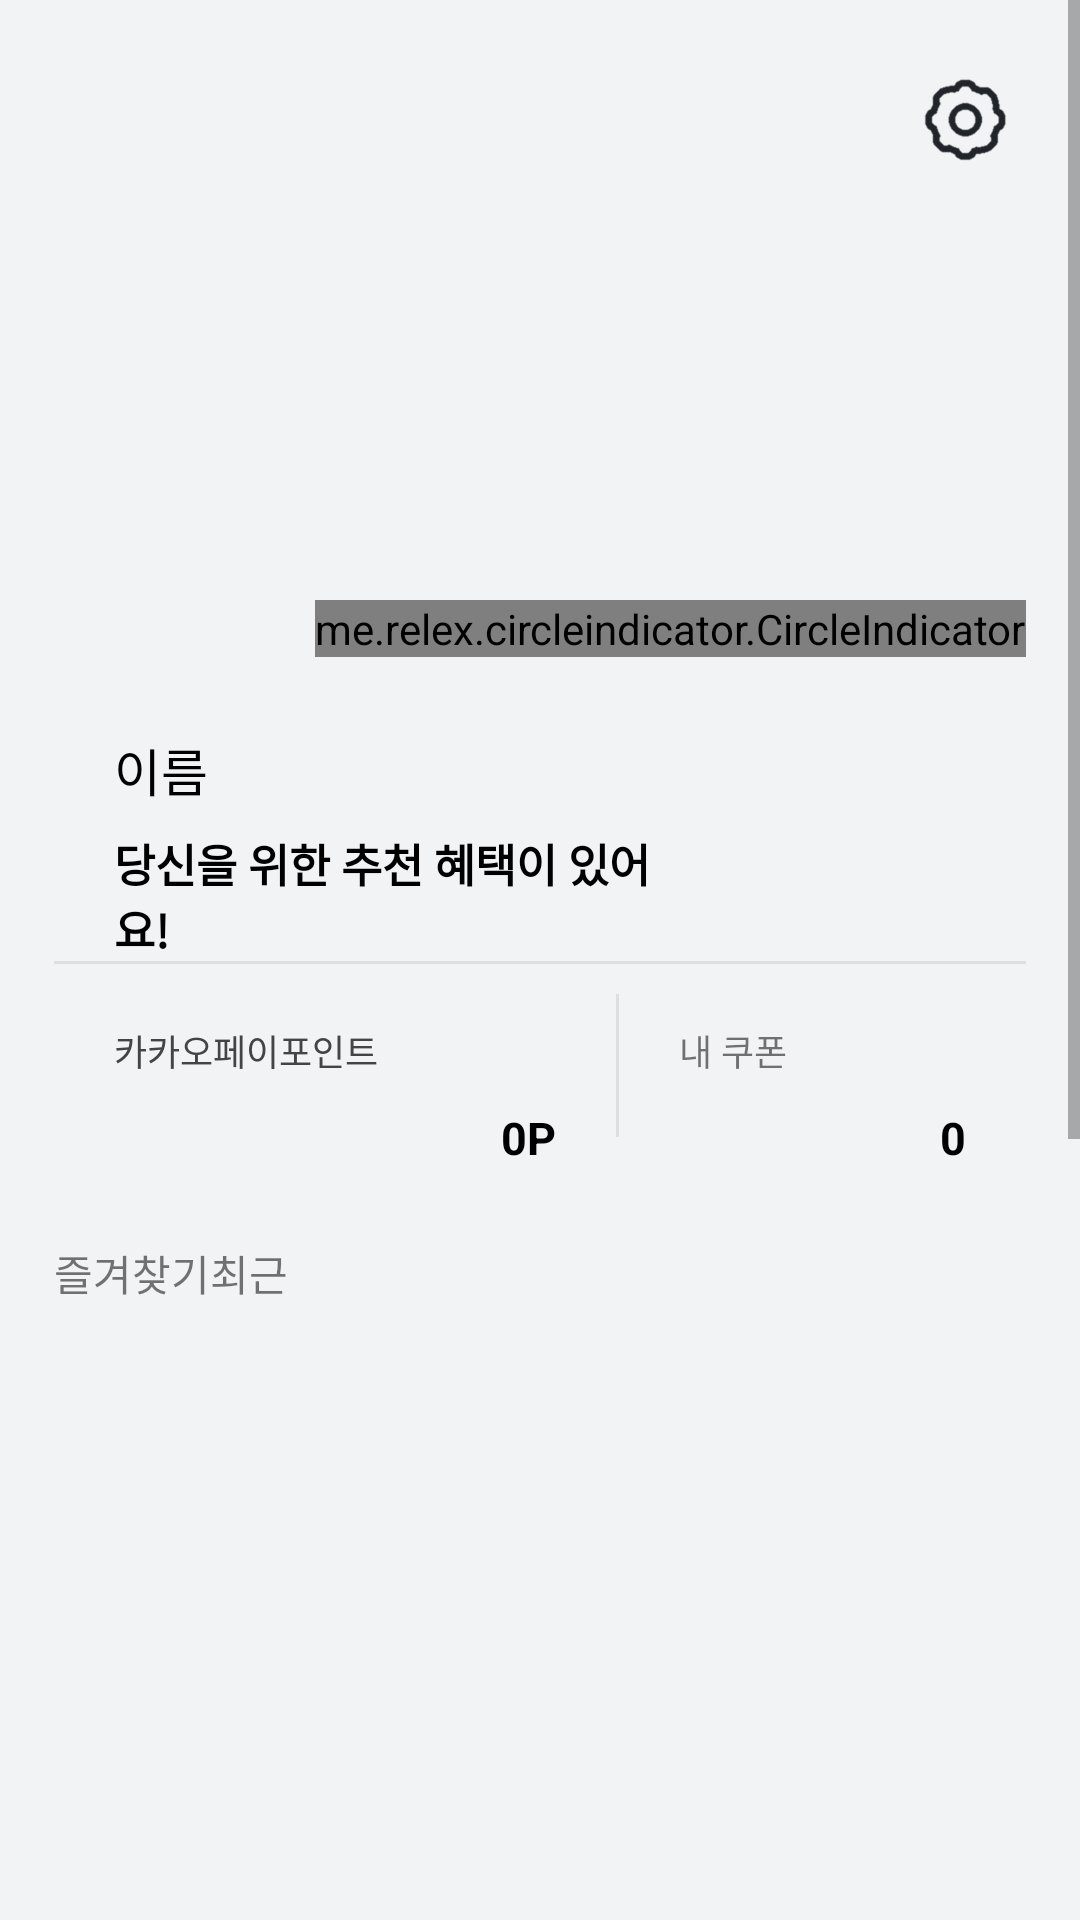

Icons on this 1080px×1920px Android screen, each with the point to tap as point (x, y):
setting: point (965, 119)
